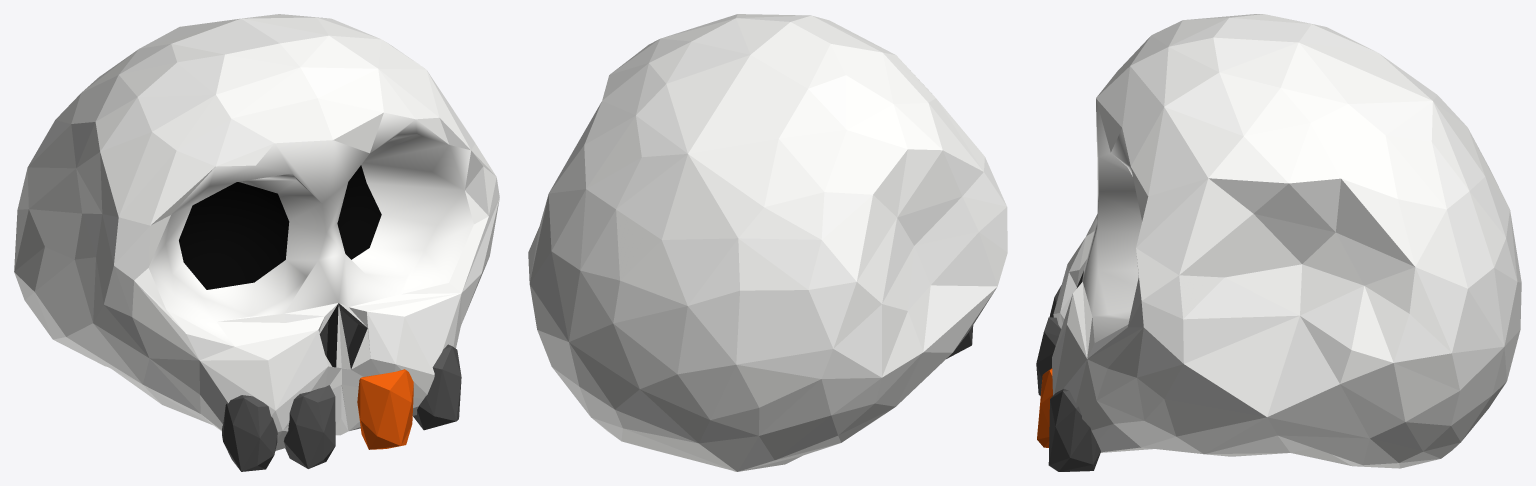
The model's file is Skull_1.fbx.
The picture shows the model from 3 angles, left to right: view 1: azimuth 30°, elevation 25°; view 2: azimuth 150°, elevation 25°; view 3: azimuth 270°, elevation 25°; orthographic projection. The views are drawn at different scales.
Visible parts, largest first — view 1: Skull; view 2: Skull; view 3: Skull.
Boxes of the visible parts, x1,y1,x2,y2 form: Skull: (14,14,499,471); Skull: (528,14,1007,471); Skull: (1036,14,1521,471).
Bounding box in the file's own units: 66.08 × 59.16 × 65.26.
